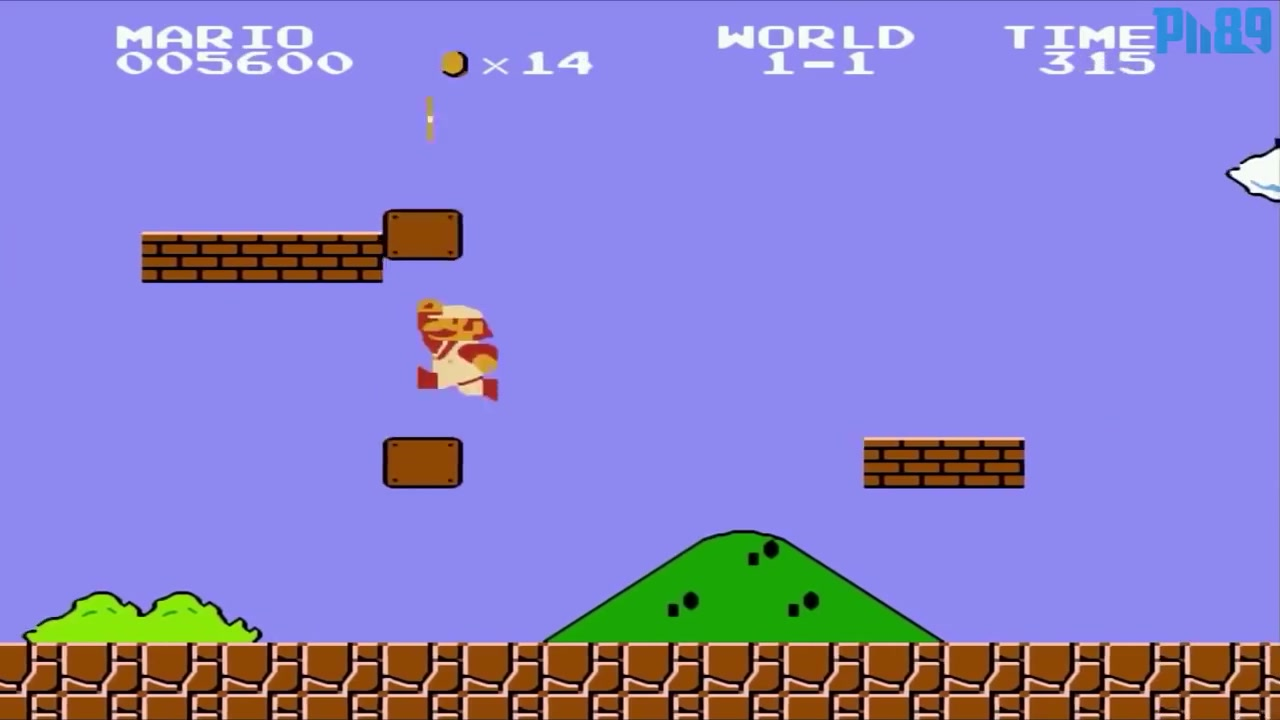mario: (404, 294, 507, 409)
